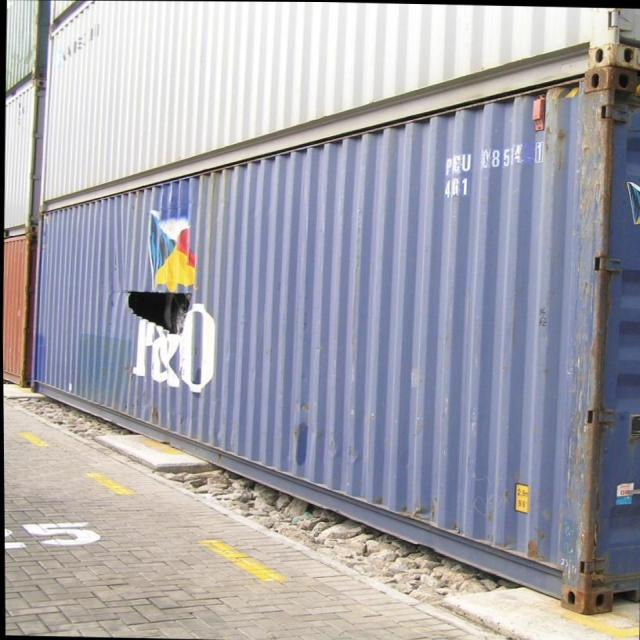hole: (114, 284, 201, 339)
